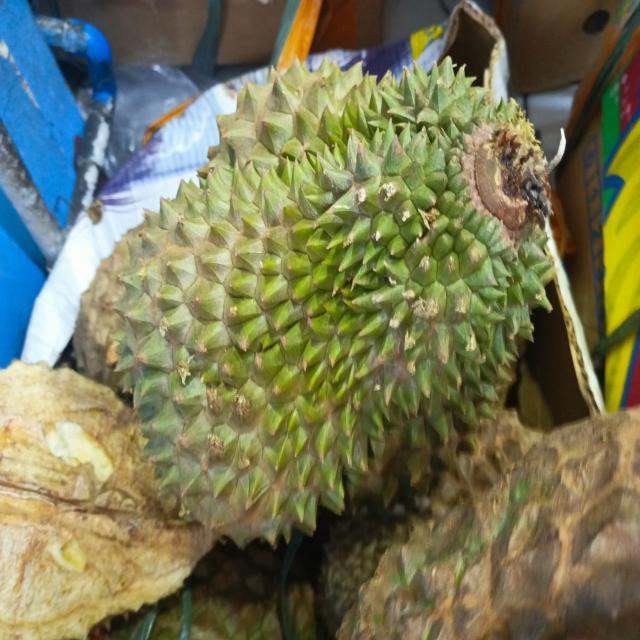immature: (97, 43, 568, 550)
